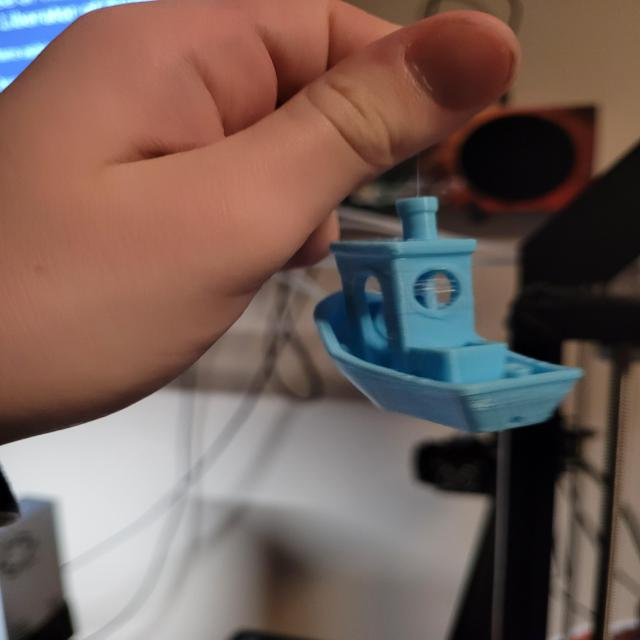Stringing: (413, 278, 457, 297)
